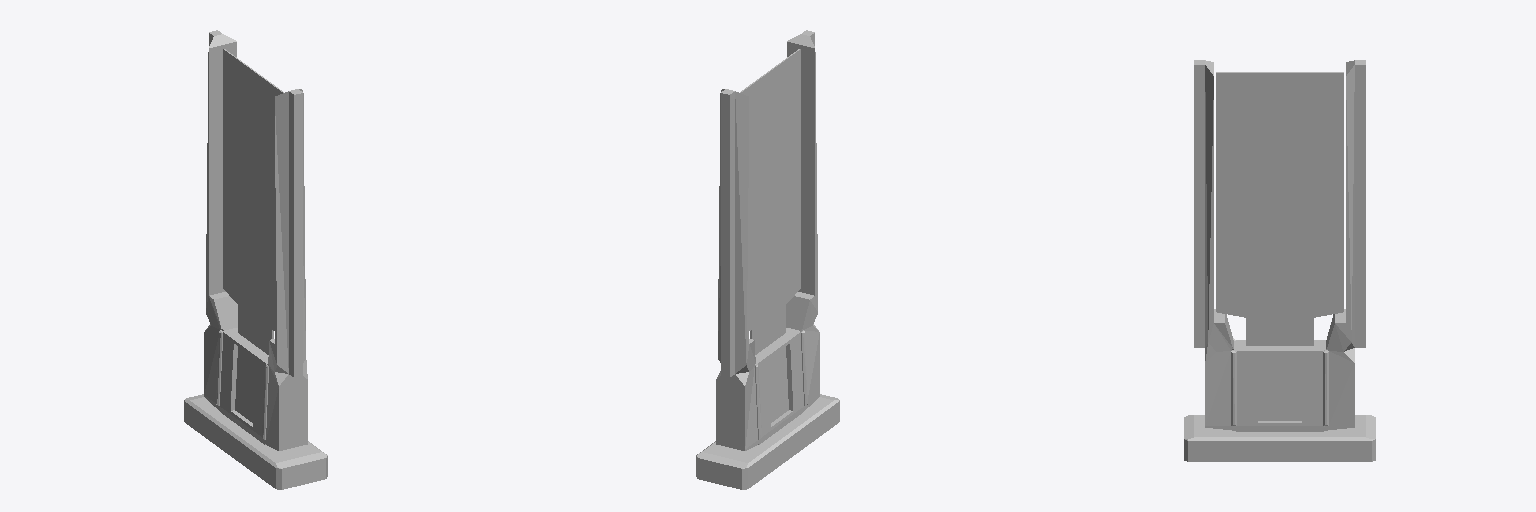
Rendered from StreetBoard.obj.
The picture shows the model from 3 angles: view 1: azimuth 30°, elevation 25°; view 2: azimuth 150°, elevation 25°; view 3: azimuth 270°, elevation 25°; orthographic projection.
Parts seen in each view (by area): view 1: Cube1; view 2: Cube1; view 3: Cube1.
Part boxes in pixels (x1,y1,x2,y2): Cube1: (184, 30, 327, 489); Cube1: (696, 30, 839, 489); Cube1: (1184, 60, 1375, 461).
Size of the model in its own units: 0.624 by 4.44 by 2.